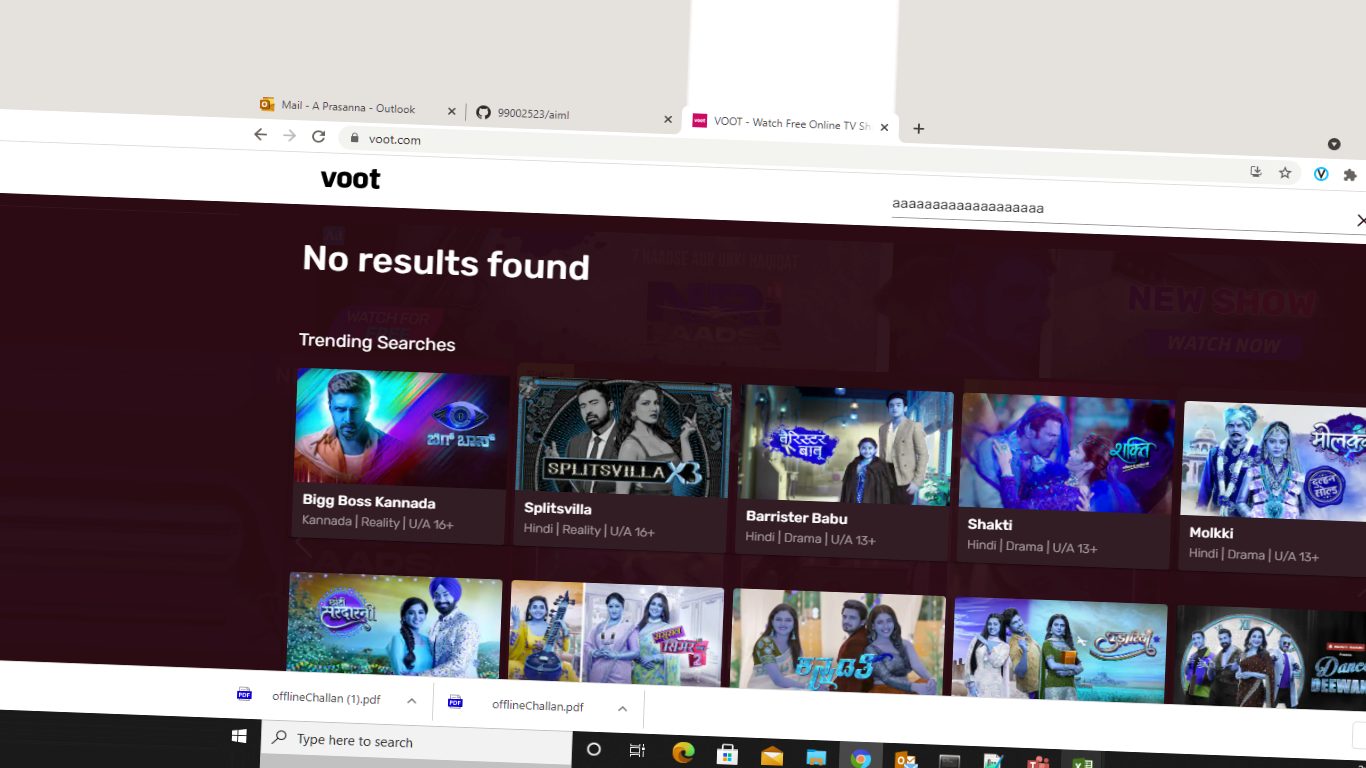noresultsfound: (278, 216, 630, 301)
searchtextbox: (853, 168, 1366, 248)
